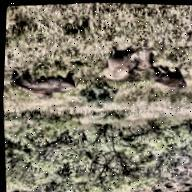boar: (11, 57, 80, 108), (104, 34, 159, 81), (153, 64, 192, 90)
